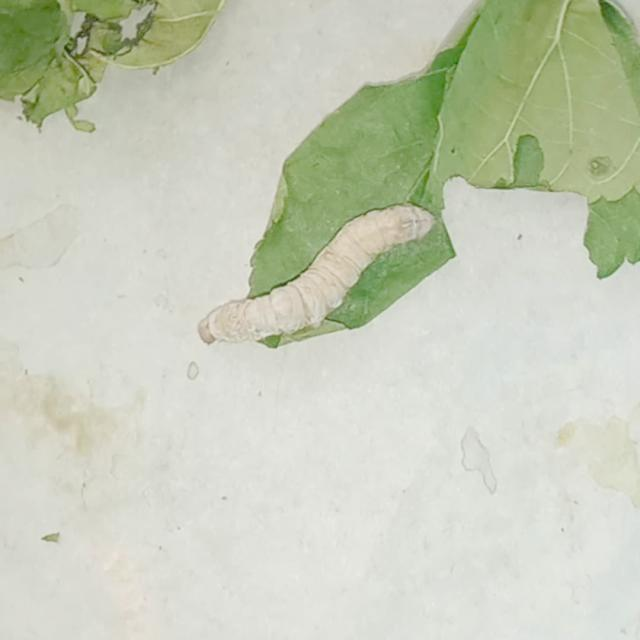Grasserie: (188, 182, 449, 390)
